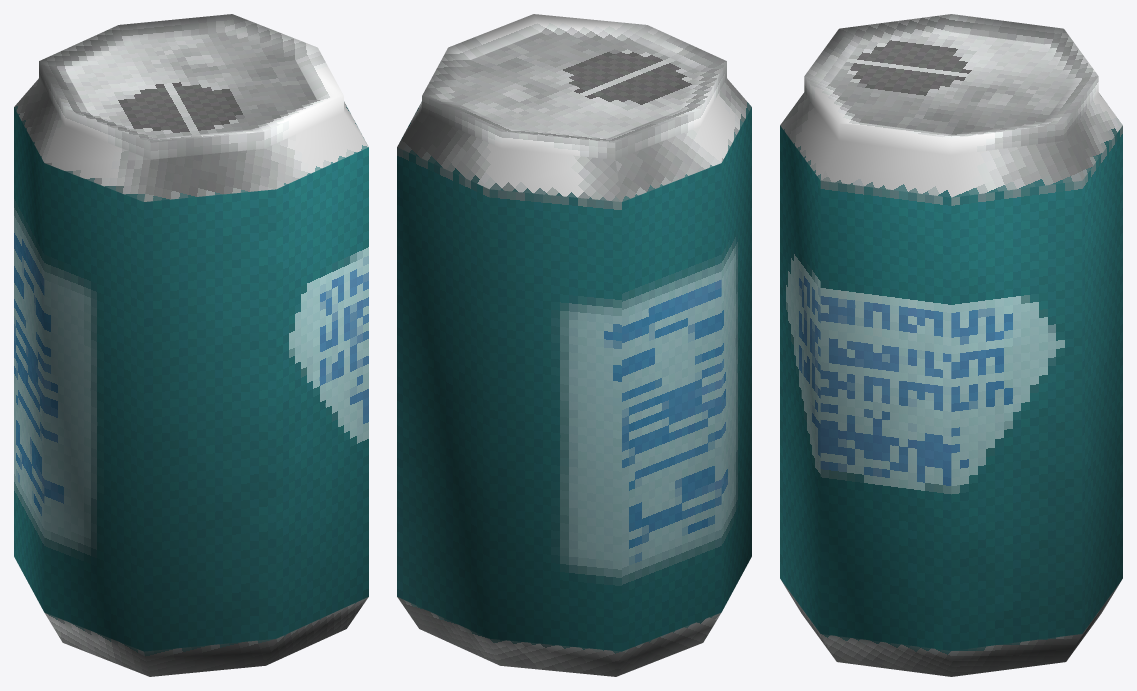
Rendered from BeerPivo.glb.
The picture shows the model from 3 angles, left to right: view 1: azimuth 30°, elevation 25°; view 2: azimuth 150°, elevation 25°; view 3: azimuth 270°, elevation 25°; orthographic projection.
Visible parts, largest first — view 1: Cube.006; view 2: Cube.006; view 3: Cube.006.
Boxes of the visible parts, box(x1,y1,x2,y2) form: Cube.006: box(14, 14, 368, 676); Cube.006: box(397, 14, 751, 676); Cube.006: box(780, 14, 1122, 676).
Size of the model in its own units: 2.62 by 4.53 by 2.62.
1 material, 1 textured.
